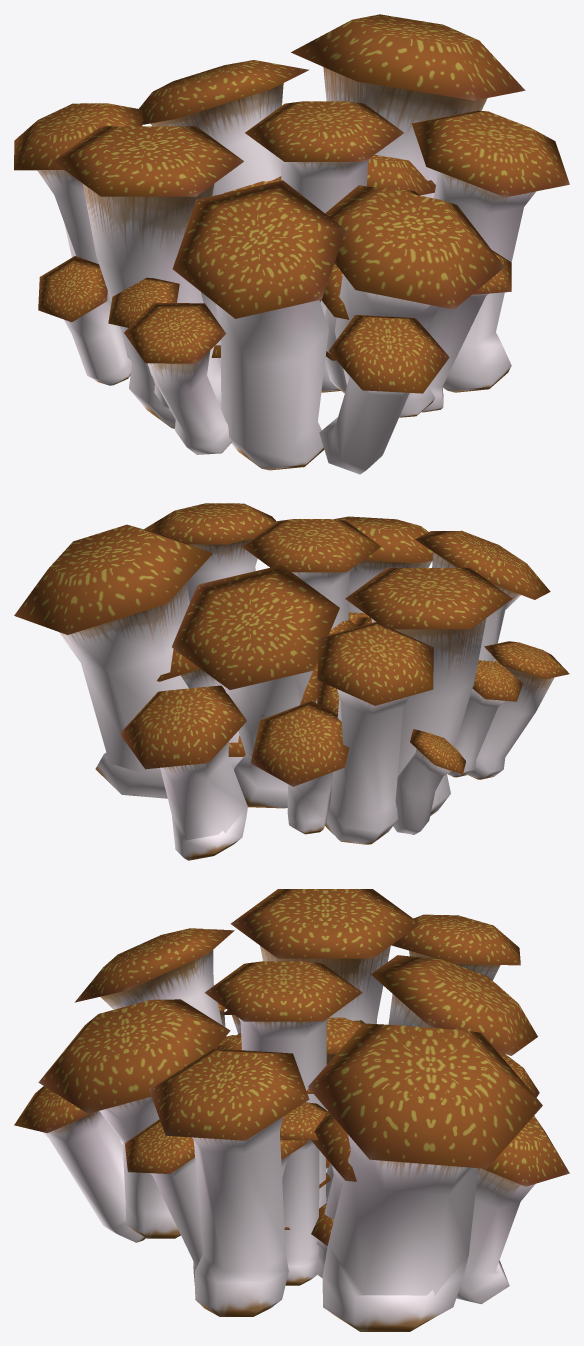
File: Mushroom.fbx
The picture shows the model from 3 angles, top to bottom: view 1: azimuth 30°, elevation 25°; view 2: azimuth 150°, elevation 25°; view 3: azimuth 270°, elevation 25°; orthographic projection. The views are drawn at different scales.
Visible parts, largest first — view 1: AdultMuch, TeenMush; view 2: AdultMuch, TeenMush; view 3: AdultMuch, TeenMush, BBMush.
Part boxes in pixels (<box>): AdultMuch: <box>14,14,569,474</box>; TeenMush: <box>201,155,435,393</box>; AdultMuch: <box>14,503,569,860</box>; TeenMush: <box>157,612,369,804</box>; AdultMuch: <box>14,889,569,1331</box>; TeenMush: <box>216,1017,365,1277</box>; BBMush: <box>284,1158,333,1250</box>.
Size of the model in its own units: 167 by 105 by 169.
